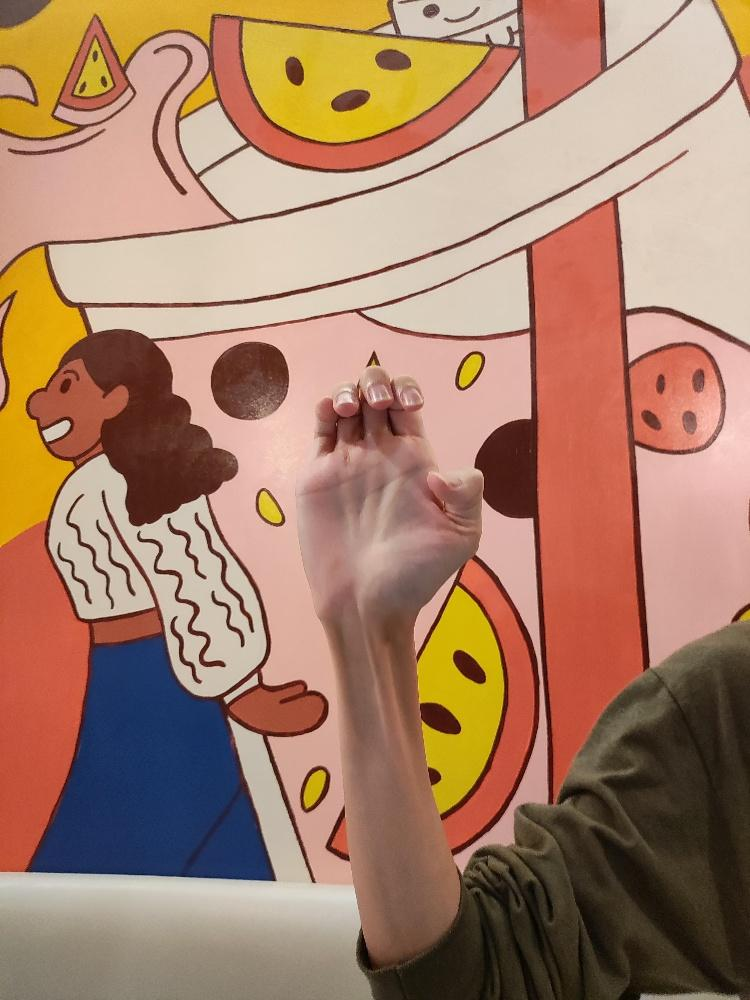e: (293, 361, 488, 624)
